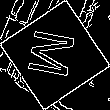M_E: (26, 27, 84, 83)
